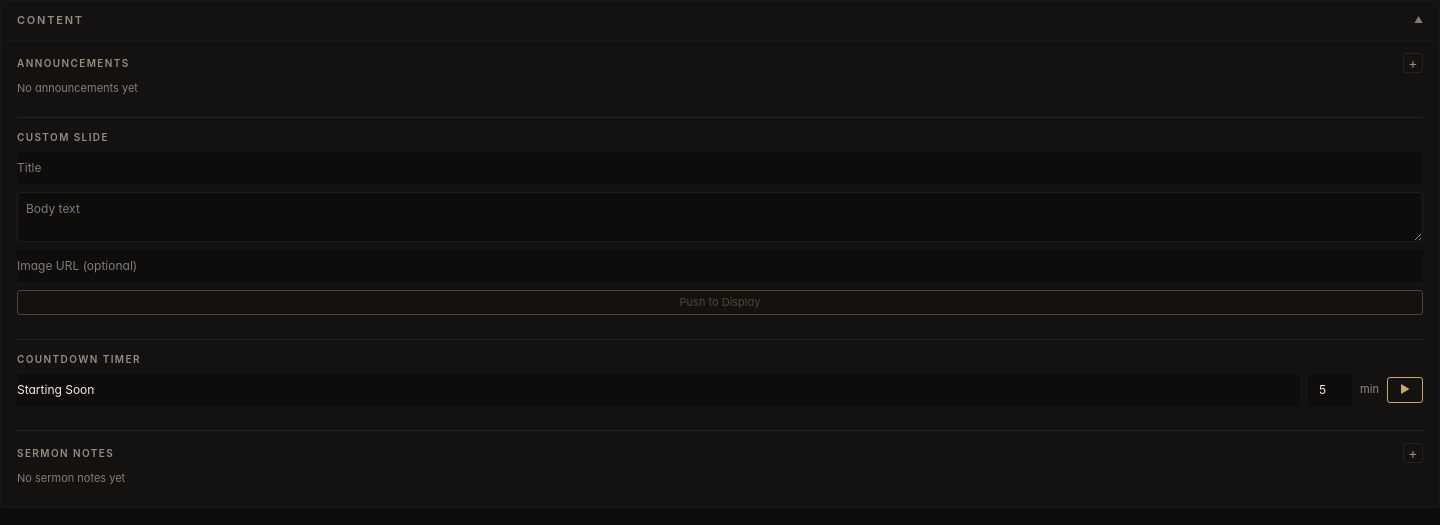
Test: ContentPanel › collapses when the header is clicked
This screenshot has width=1440, height=525.
Expected: the text "Announcements" is shown, [17,56,130,70]
Click the button "Content ▲" at {"x": 50, "y": 20}, box [1,1,1439,41]
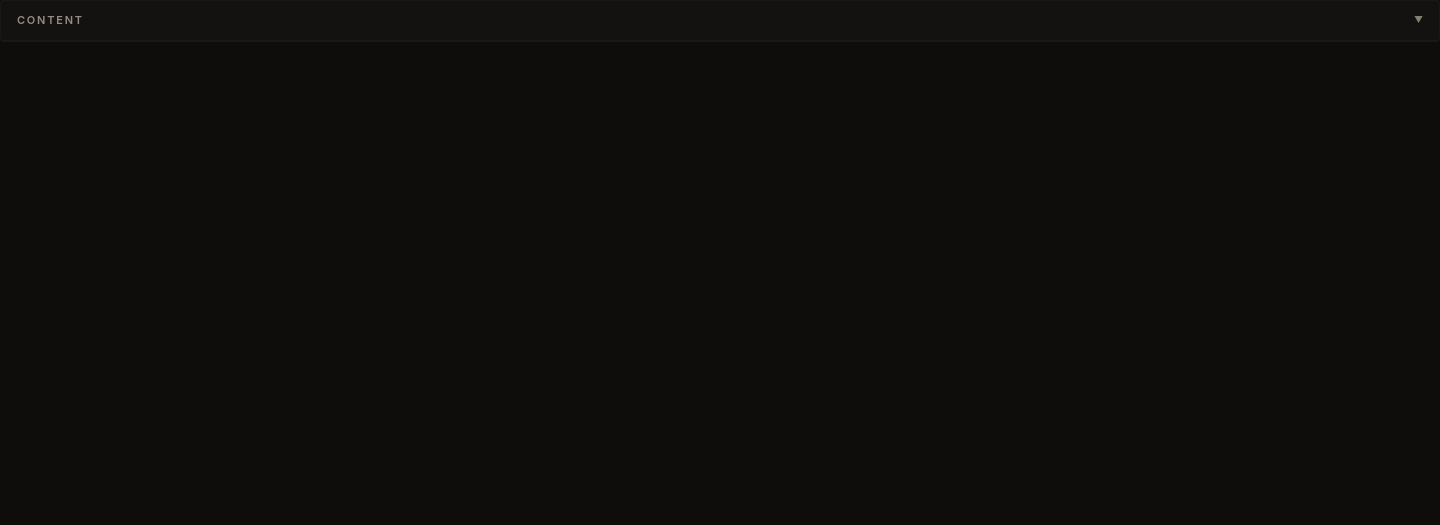
Now the text "Announcements" is gone
